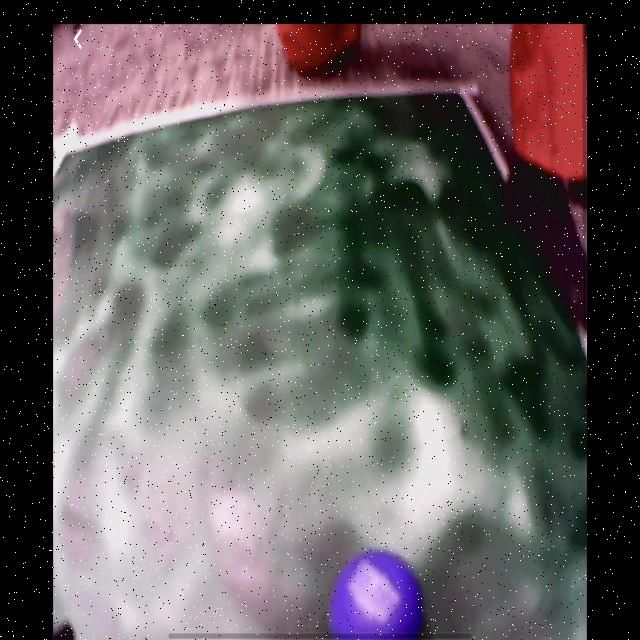ball: (332, 551, 424, 639)
